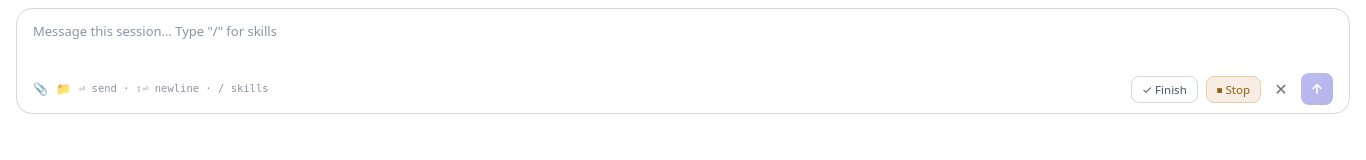
Test: a failed steer restores the typed message and shows the server error
Step 1. Type "important reply" into the text box with test id "composer-input" → coordinates (683, 42), box [33, 21, 1333, 63]
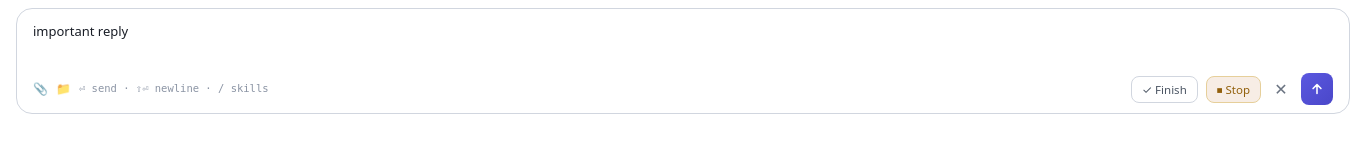
Step 2. Press Enter in the text box with test id "composer-input", box [33, 21, 1333, 63]
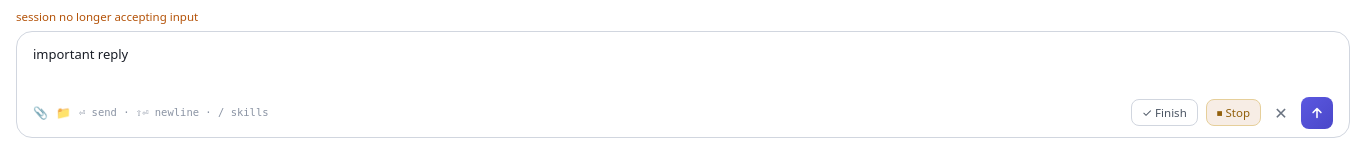
Result: the text with test id "composer-error" shows "no longer accepting input" at [16, 9, 198, 24]
